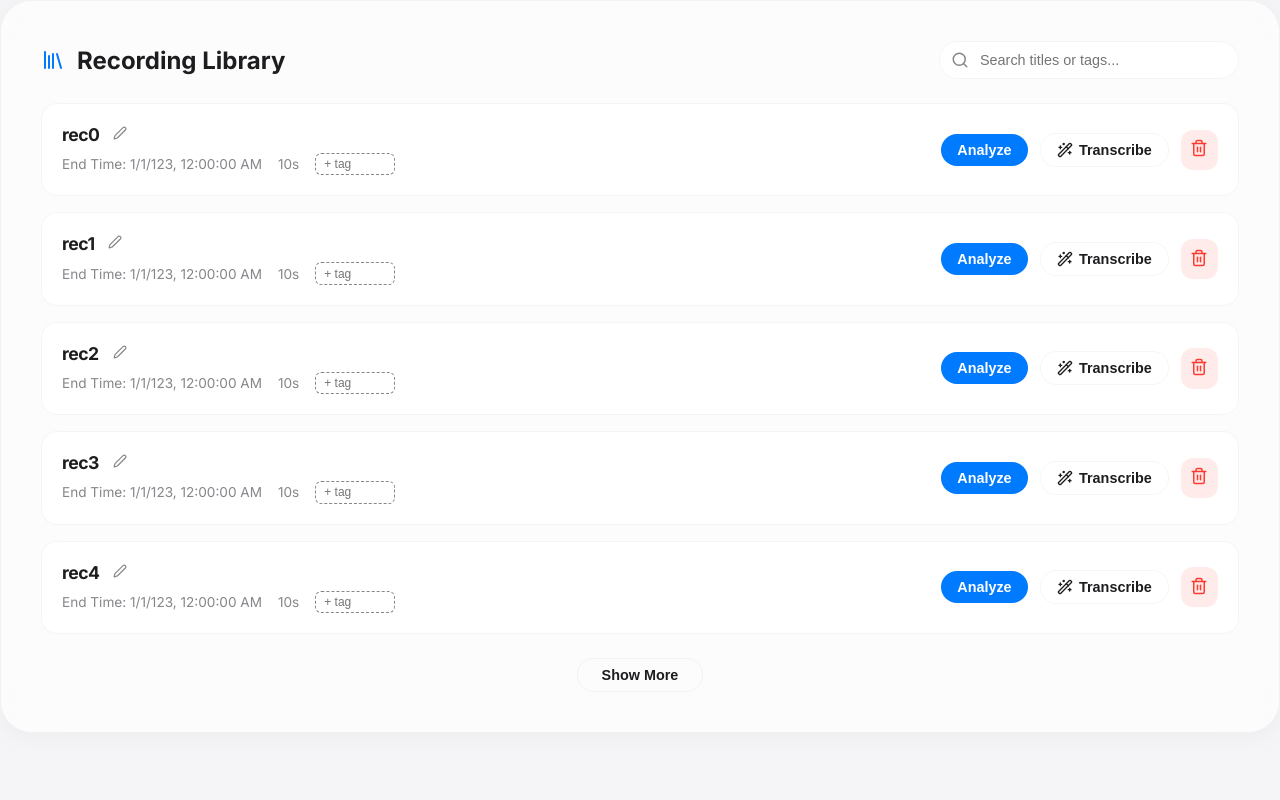
Test: LibraryTab › handles pagination (Show More)
Check: the heading "rec0" is shown, box 62,124 -> 99,145
Check: the text "rec9" is not shown
Note: Click Show More
Step 1. Click the button "Show More" → (640, 675), box 577,658 -> 703,692
(page scrolled)
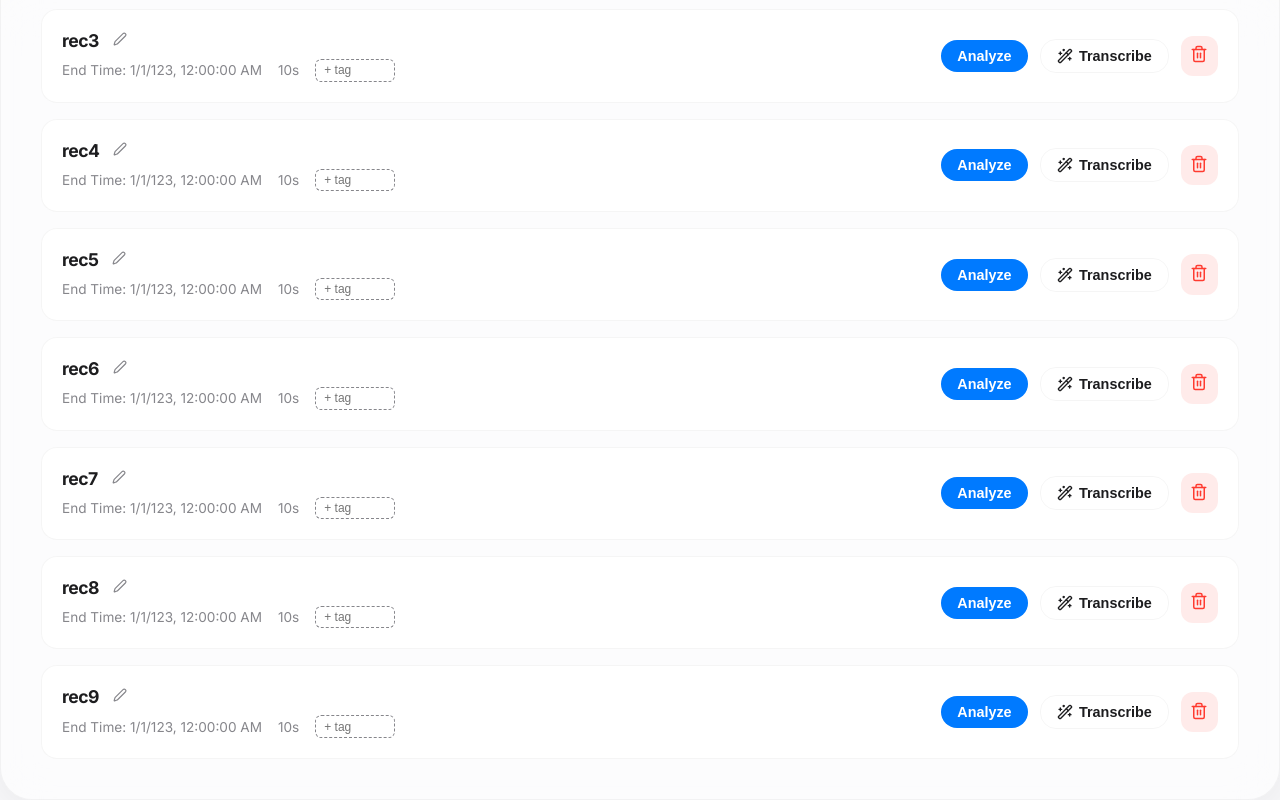
Check: the heading "rec9" is shown, box 62,686 -> 99,707
